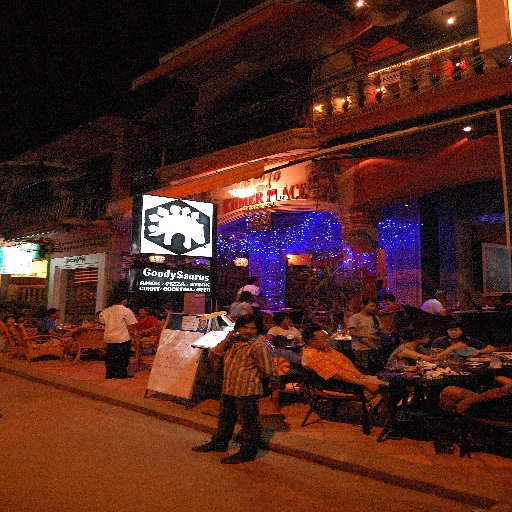hand: (456, 398, 472, 415), (225, 328, 239, 341), (365, 382, 379, 394), (450, 341, 468, 349), (467, 349, 479, 360), (430, 347, 444, 354), (365, 334, 380, 340), (129, 336, 135, 346), (134, 329, 143, 334), (20, 319, 27, 324), (447, 306, 454, 310), (133, 328, 138, 333), (61, 333, 67, 337)
